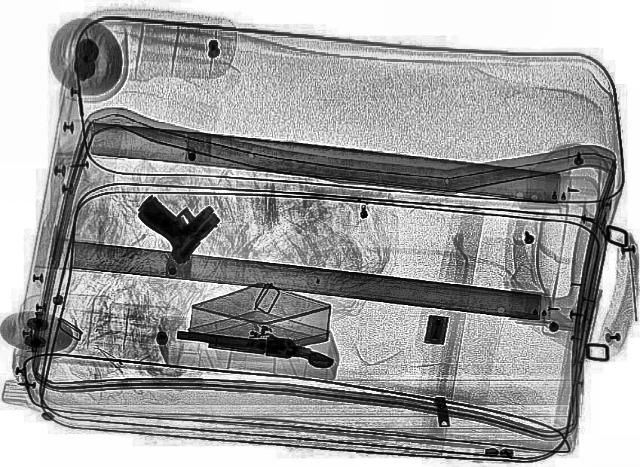Gun: (120, 182, 238, 262), (172, 330, 338, 366)
